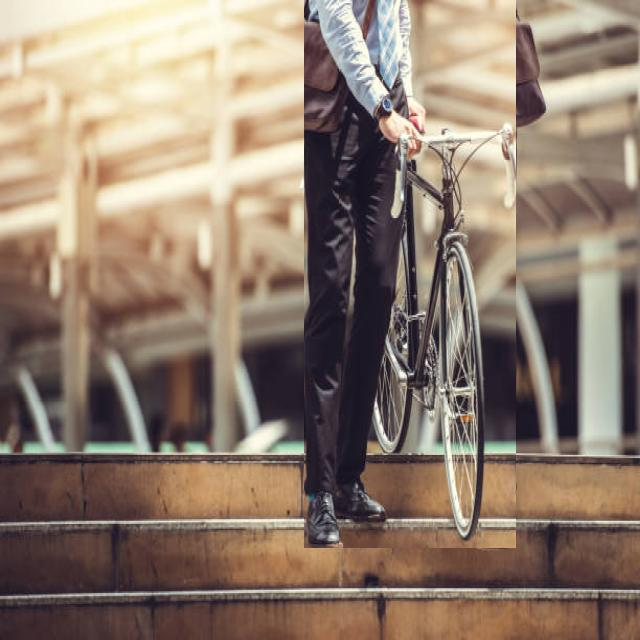bicycle: (304, 0, 516, 548)
